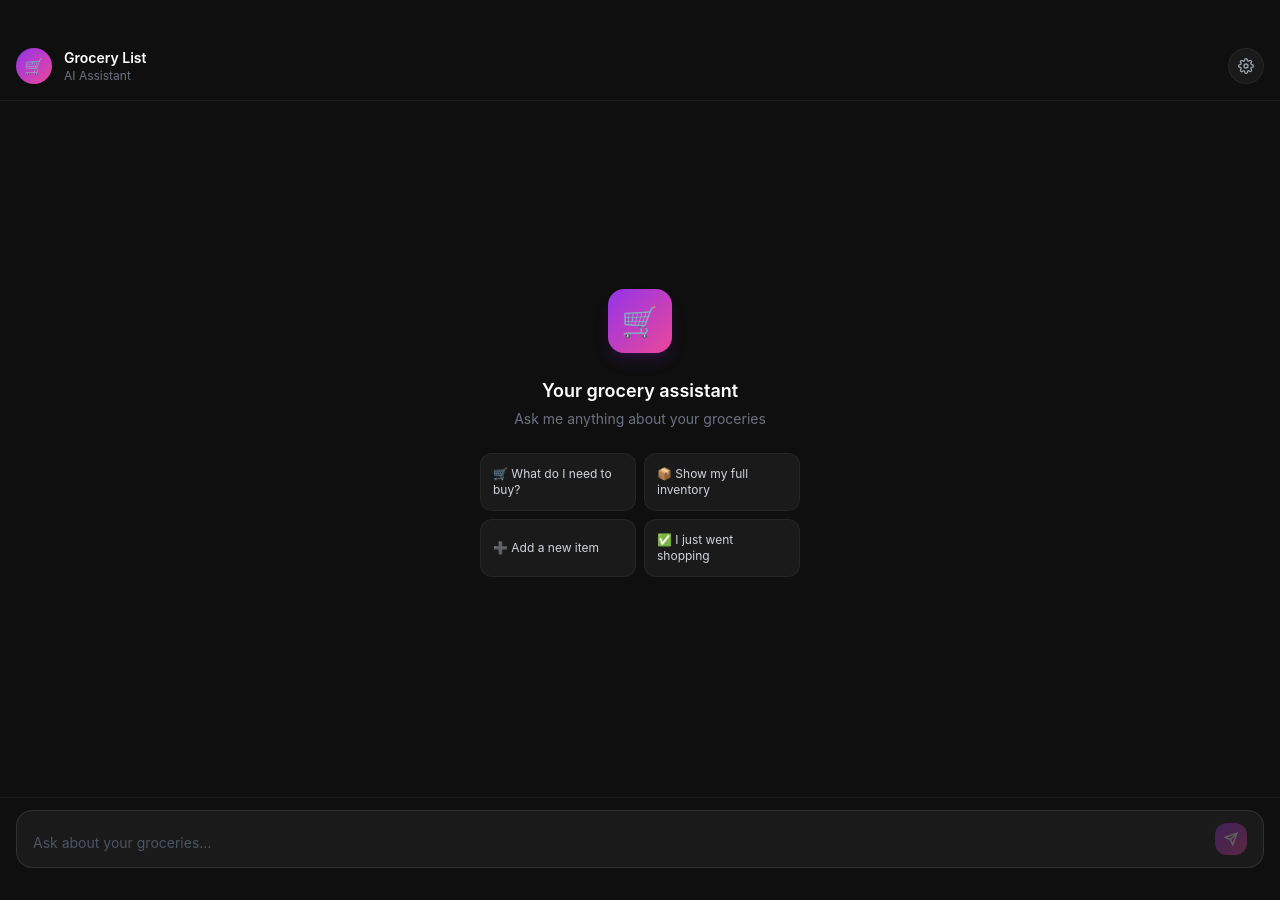
Test case: ChatPage — plain text response › renders a plain assistant reply in the message list
What coordinates should you click on to do the following:
click the button "🛒 What do I need to buy?"
I would click on:
 (558, 482)
Its box is [480,453,636,511].
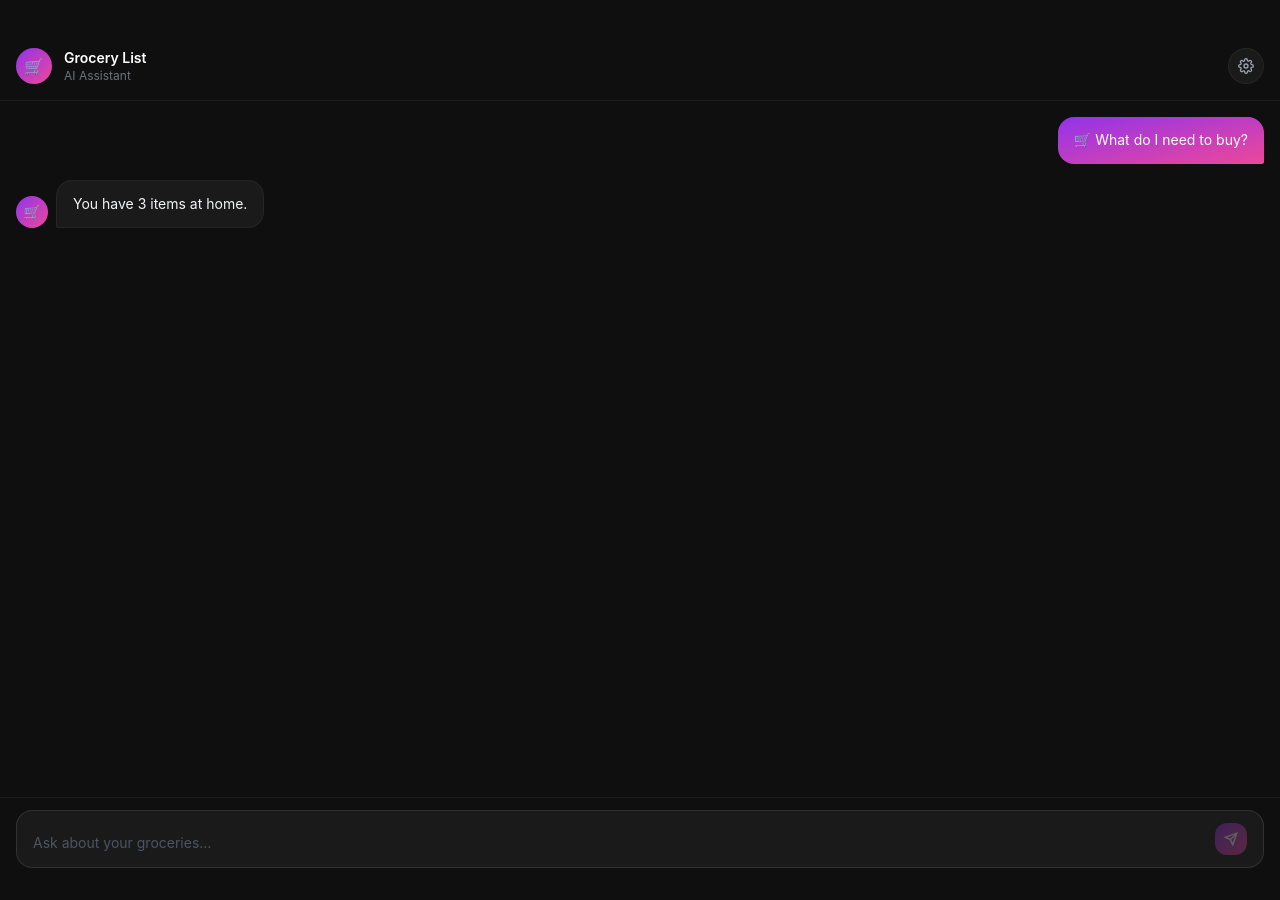
Expected: the text "You have 3 items at home." is shown, [73,193,247,215]
